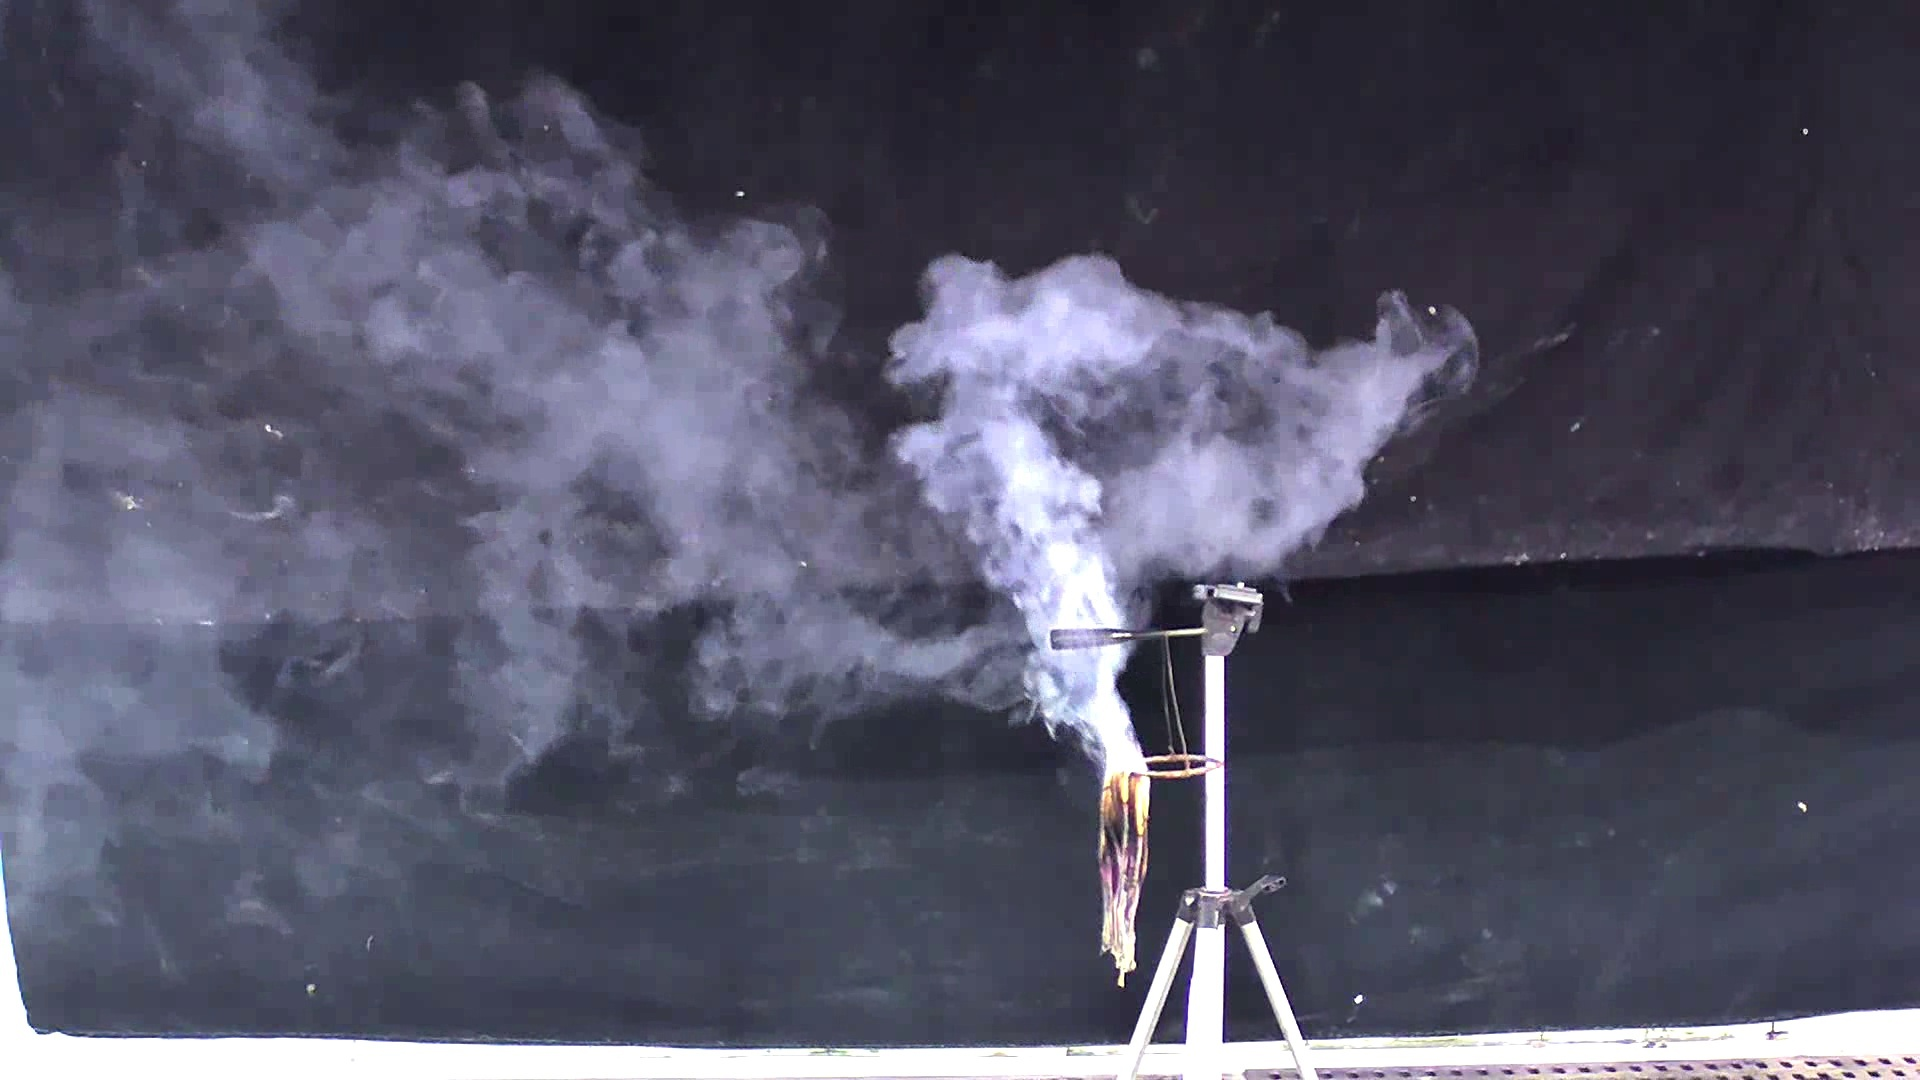smoke: (148, 29, 1498, 761)
